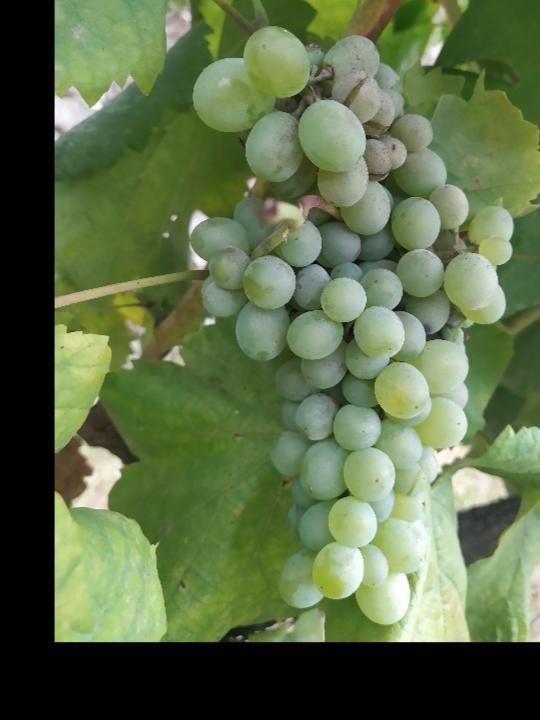grape: (187, 21, 520, 628)
